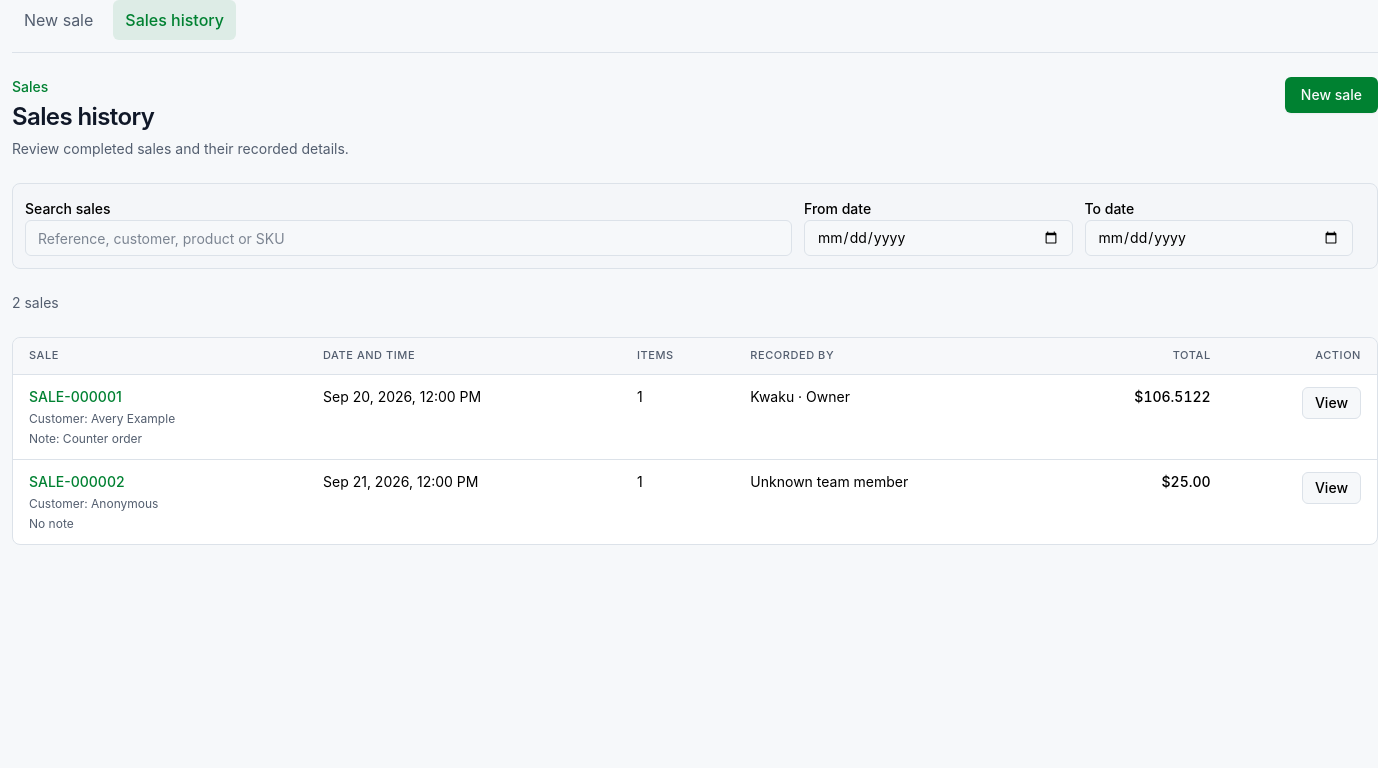
it: sales history and details › links a history row to the matching sale detail route
The image size is (1378, 768).
Click the link with aria-label "View sale SALE-000001": coordinates (1331, 403) [1302,387,1361,419]
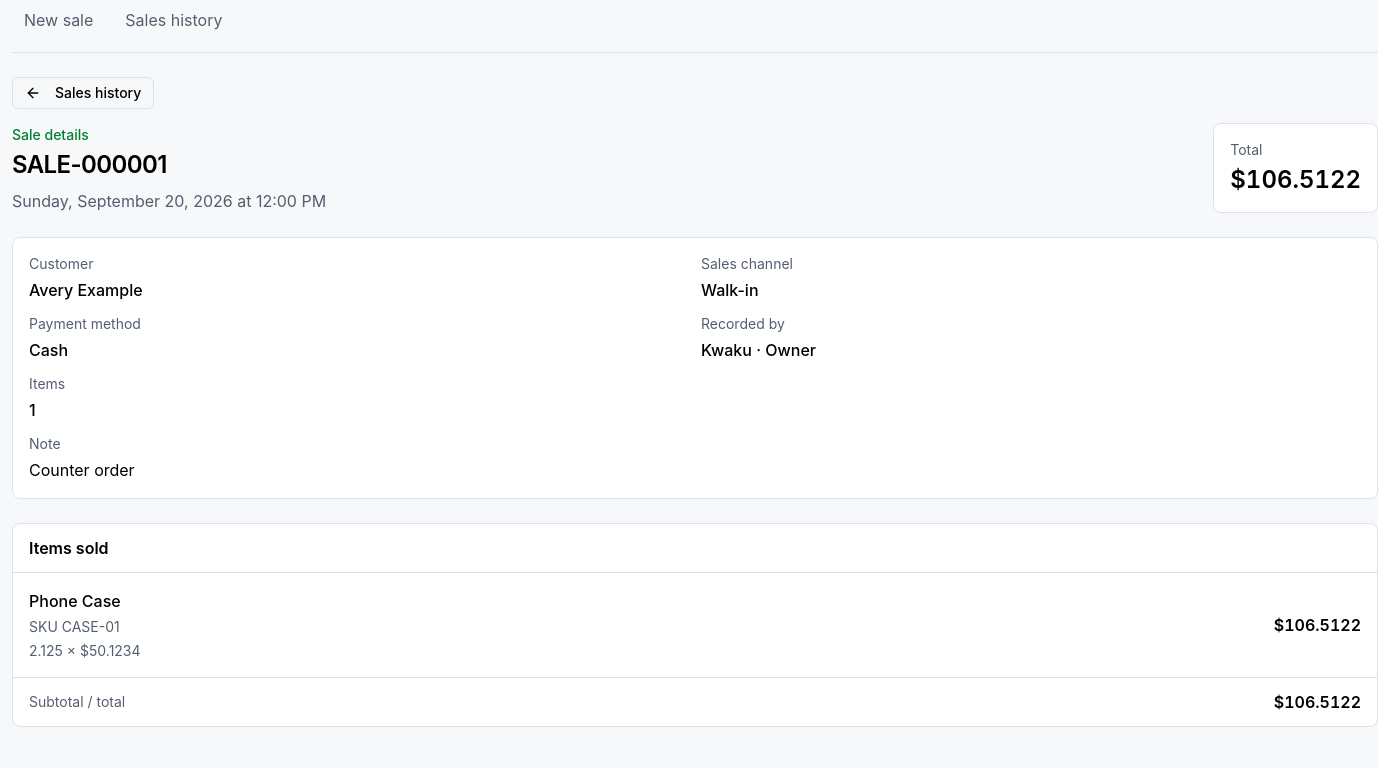
Expected: the heading "SALE-000001" is shown, [12,150,167,179]
